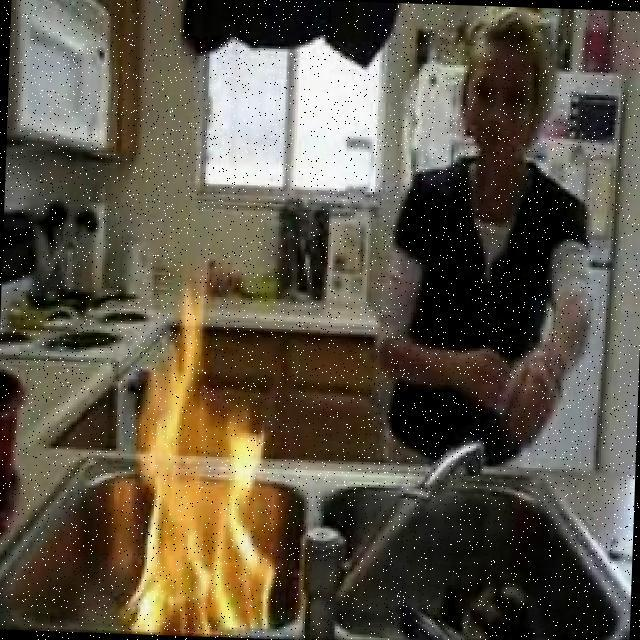Fire: (127, 286, 289, 639)
